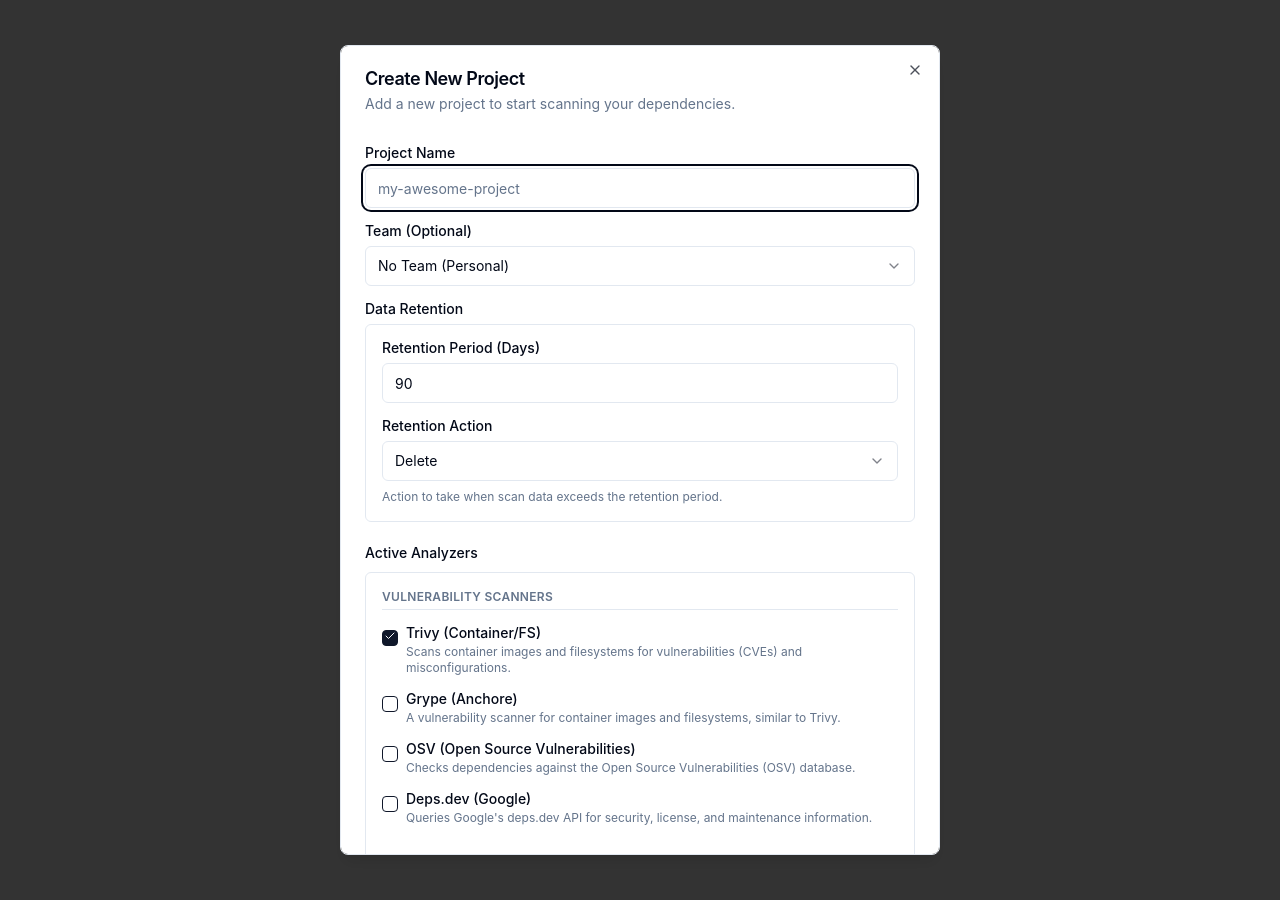
Test: CreateProjectDialog after a project was created › copying the API key › confirms the copy and marks the button once the clipboard holds the key
Type "svc" into the field labelled "Project Name" at (640, 188), box [365,168,915,208]
(page scrolled)
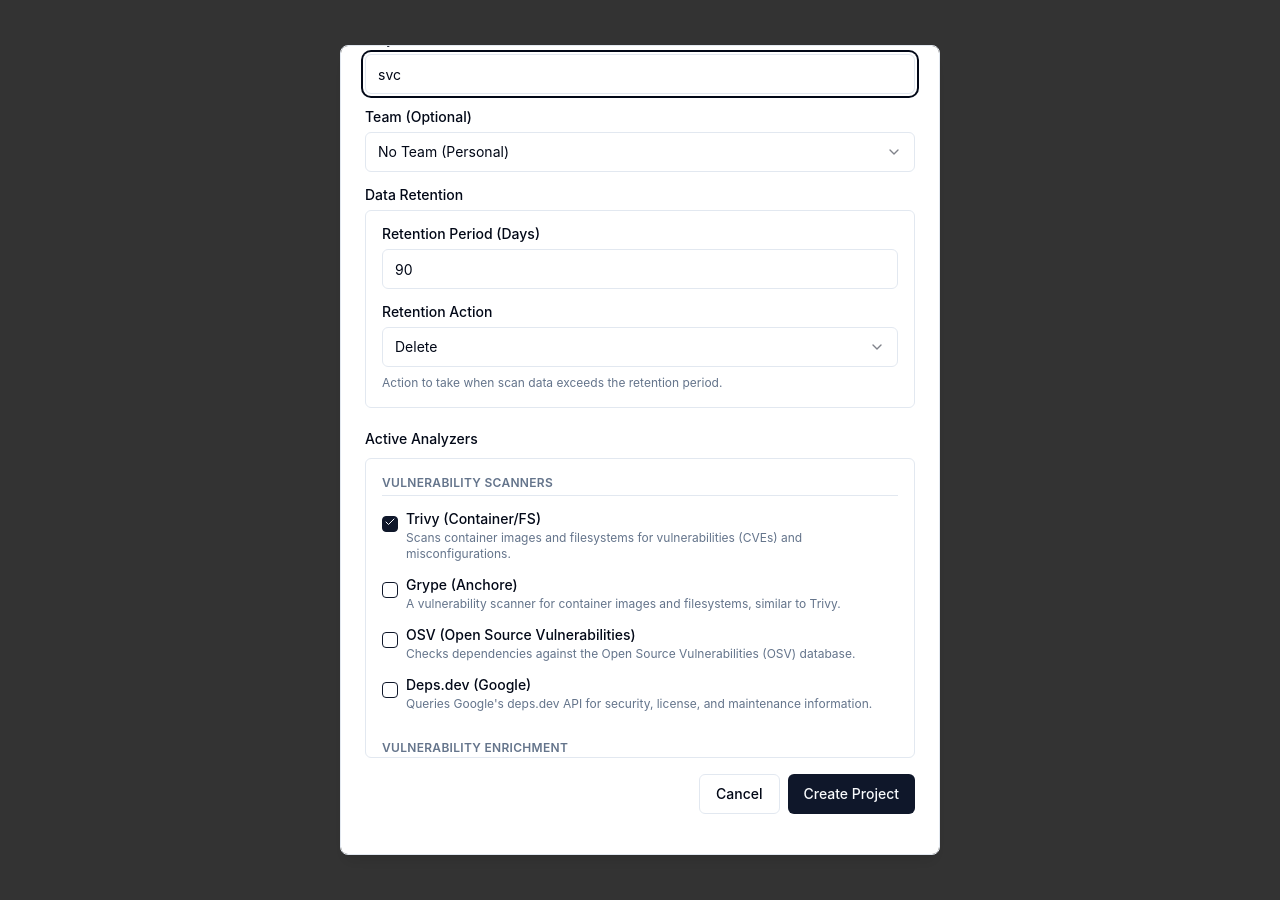
Click the button "Create Project" at (851, 794), box [788,774,915,814]
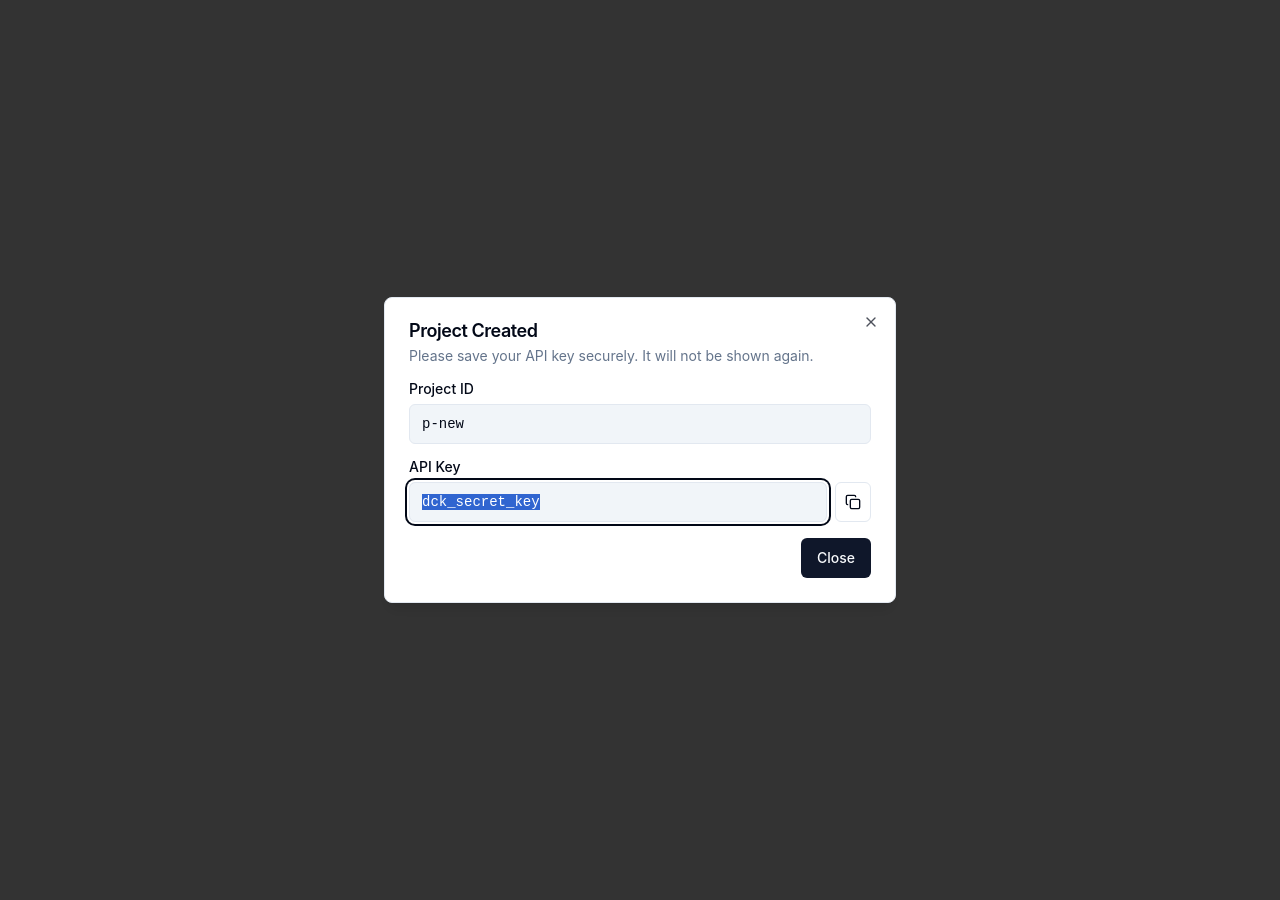
Click the button named "Copy API key" at (853, 502), box [835,482,871,522]
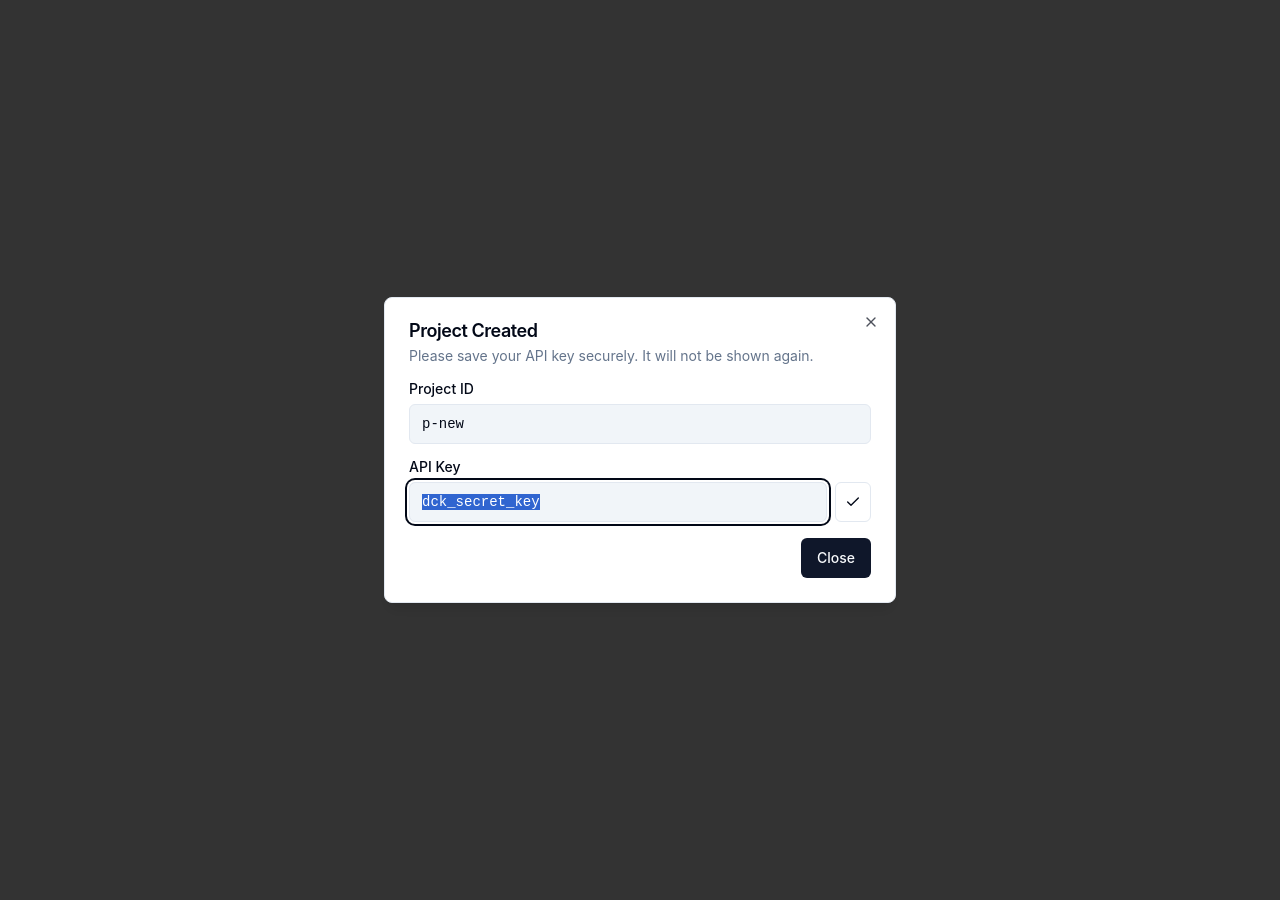
Expected: the icon with class "lucide-check" is shown, [845,494,861,510]
